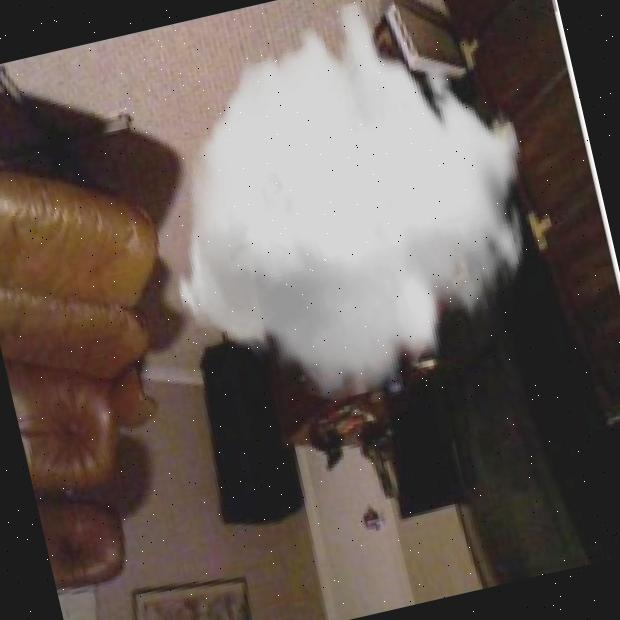smoke: (122, 0, 567, 428)
